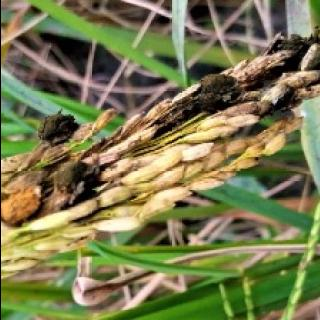Gosong-Palsu: (0, 184, 39, 224), (199, 74, 239, 111), (37, 111, 77, 146)
